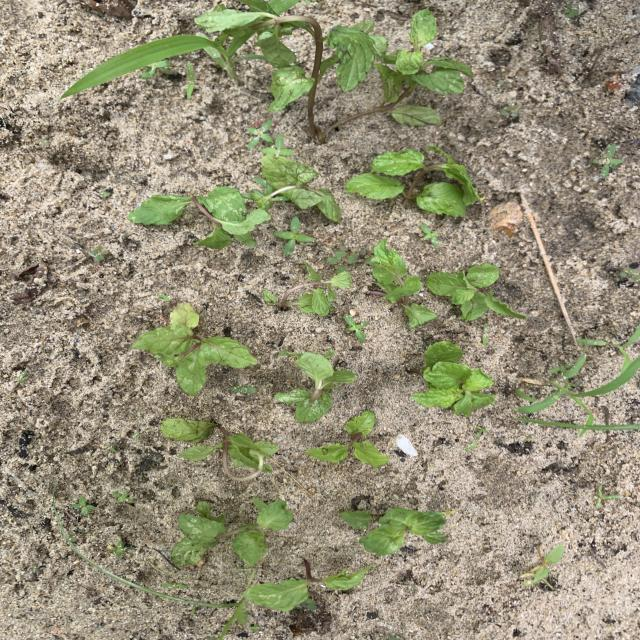crop: (320, 9, 471, 133), (195, 0, 317, 110), (132, 304, 255, 394), (346, 147, 483, 215), (129, 186, 264, 247), (171, 499, 291, 567), (161, 419, 279, 477), (248, 561, 374, 611), (414, 341, 495, 415), (369, 239, 435, 327), (260, 149, 339, 222), (275, 352, 355, 422), (427, 264, 526, 319), (263, 262, 350, 315), (307, 411, 387, 466), (360, 508, 450, 554)
weed: (66, 539, 247, 640), (517, 353, 639, 431), (62, 36, 216, 96), (522, 544, 563, 586), (612, 326, 639, 375), (276, 217, 311, 253), (592, 143, 623, 176), (328, 248, 364, 268), (248, 120, 271, 147), (345, 315, 367, 340), (264, 135, 291, 155), (596, 485, 619, 507), (465, 426, 486, 450), (72, 496, 94, 515), (107, 540, 131, 557), (421, 224, 439, 246), (113, 491, 134, 503), (91, 246, 107, 261), (231, 385, 255, 394), (564, 4, 579, 18), (502, 105, 518, 116), (161, 583, 187, 588), (482, 324, 487, 344), (158, 293, 168, 301), (102, 191, 111, 197)
